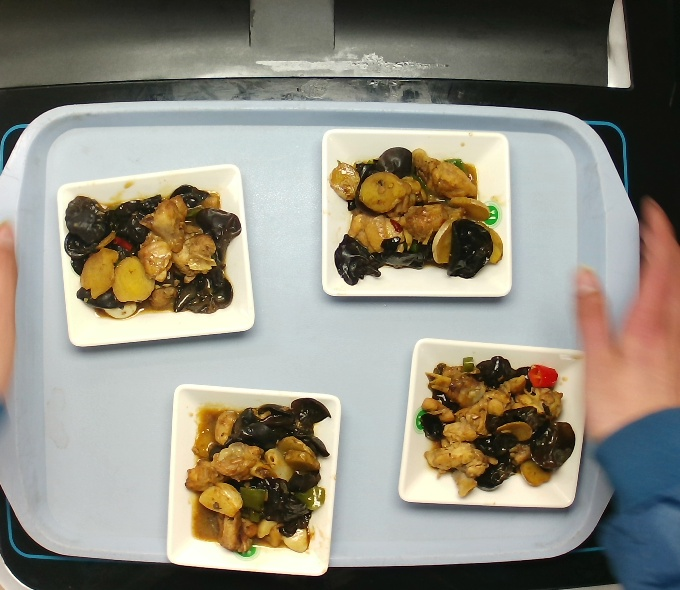wcq-MuErJiKuai: (62, 172, 240, 326), (182, 381, 332, 560), (417, 347, 577, 494), (335, 140, 492, 285)
